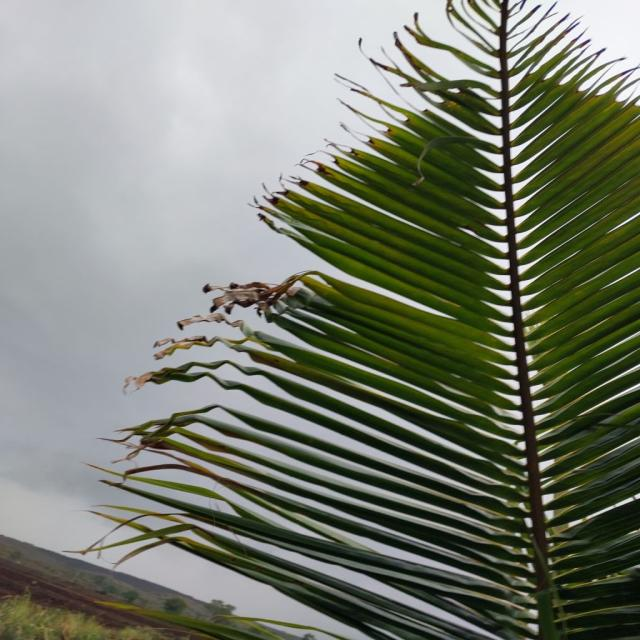leaf rot: (95, 0, 640, 599)
